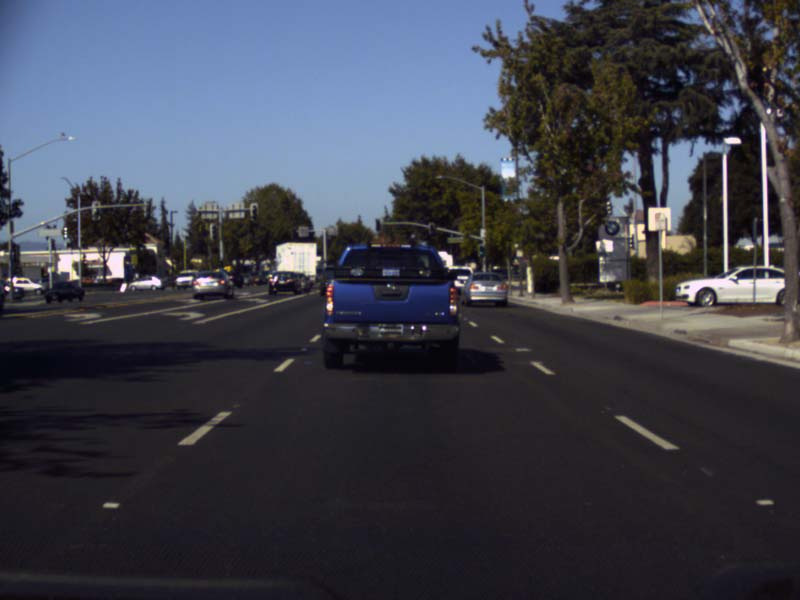Green: (479, 246, 484, 256), (429, 224, 433, 232)
